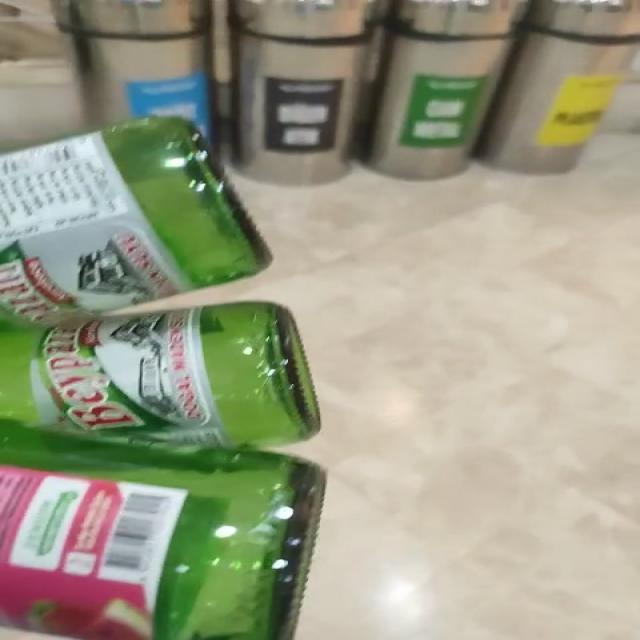glass: (1, 117, 325, 640)
